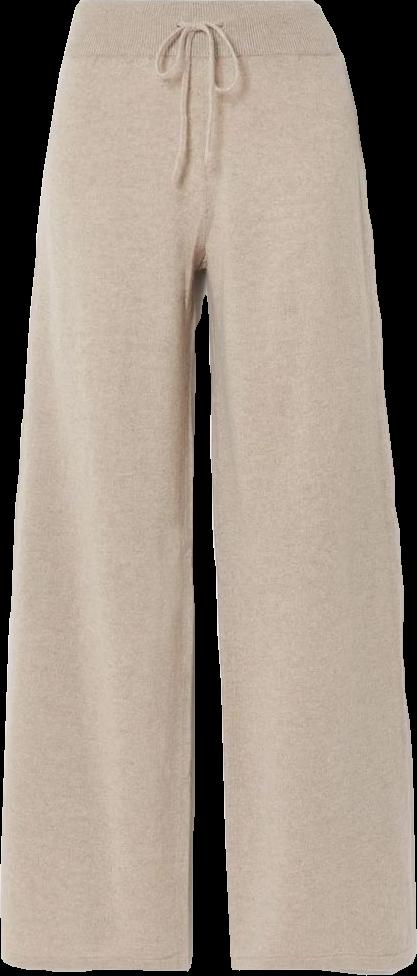Hemline: (0, 949, 195, 974), (229, 949, 416, 974)
Pantleg: (200, 0, 416, 973), (0, 0, 204, 971)
Waistline: (59, 44, 340, 63), (77, 0, 317, 14)
